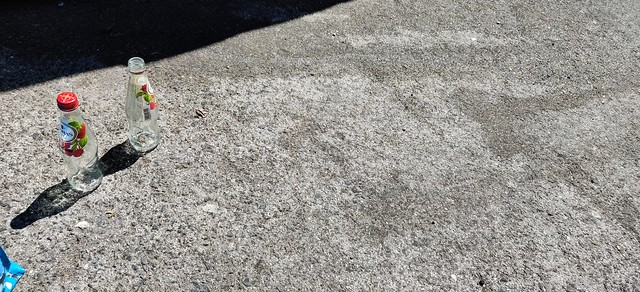bottle: (46, 81, 105, 198), (119, 50, 162, 157)
